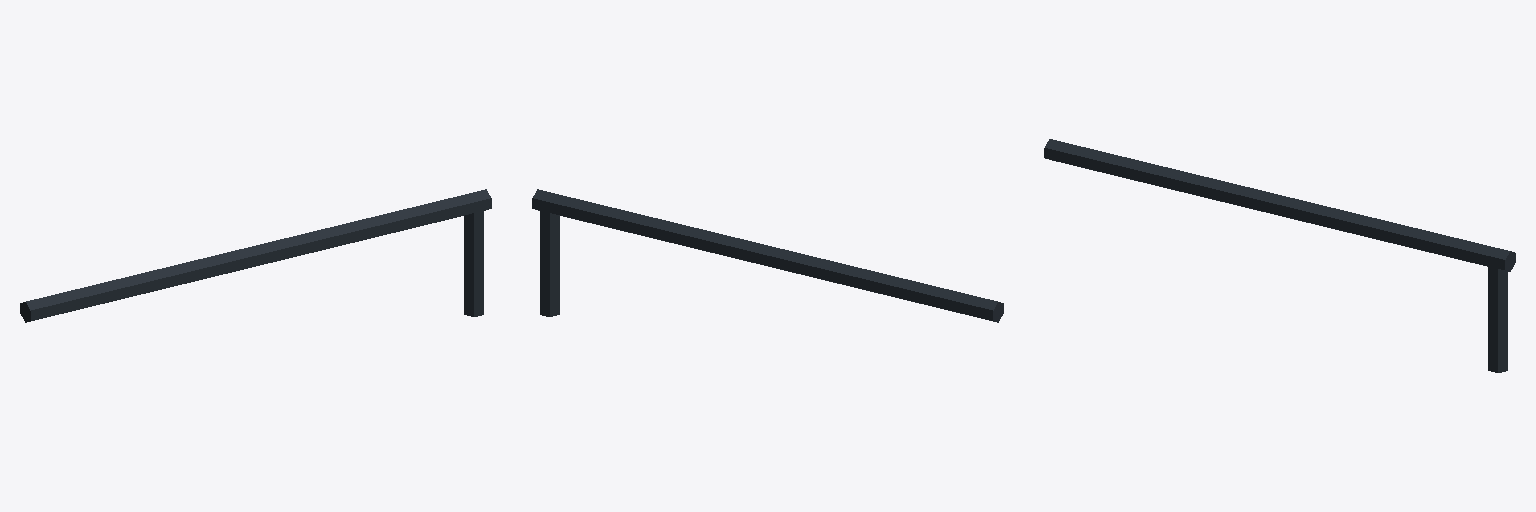
The robot description file, URDF, robot "allen_key_canonical":
<?xml version="1.0"?>
<robot name="allen_key_canonical">
  <link name="object_root">
    <!-- Uniform 10 mm across-flats hex stock; no enlarged grasp sleeve. -->
    <visual>
      <origin xyz="0.067 0 0" rpy="0 0 0"/>
      <geometry>
        <mesh filename="meshes/unit_hex_prism_x.obj" scale="0.264 0.0057735 0.0057735"/>
      </geometry>
      <material name="steel"><color rgba="0.22 0.25 0.28 1"/></material>
    </visual>
    <collision>
      <origin xyz="0.067 0 0" rpy="0 0 0"/>
      <geometry>
        <mesh filename="meshes/unit_hex_prism_x.obj" scale="0.264 0.0057735 0.0057735"/>
      </geometry>
    </collision>
    <visual>
      <origin xyz="0.192 0 -0.03" rpy="0 1.57079632679 0"/>
      <geometry>
        <mesh filename="meshes/unit_hex_prism_x.obj" scale="0.06 0.0057735 0.0057735"/>
      </geometry>
      <material name="steel"/>
    </visual>
    <collision>
      <origin xyz="0.192 0 -0.03" rpy="0 1.57079632679 0"/>
      <geometry>
        <mesh filename="meshes/unit_hex_prism_x.obj" scale="0.06 0.0057735 0.0057735"/>
      </geometry>
    </collision>
    <inertial>
      <origin xyz="0.084 0 -0.005" rpy="0 0 0"/>
      <mass value="0.045"/>
      <inertia ixx="0.000010" iyy="0.00025" izz="0.00025" ixy="0" ixz="0" iyz="0"/>
    </inertial>
  </link>
</robot>

--- Facts derived from the render (not from the file) ---
The picture shows the robot from 3 angles, left to right: view 1: azimuth 30°, elevation 25°; view 2: azimuth 150°, elevation 25°; view 3: azimuth 330°, elevation 25°; orthographic projection.
Robot: allen_key_canonical — 1 links, 0 joints (none); root link object_root; default pose: every joint at zero.
Visible links, largest first — view 1: object_root; view 2: object_root; view 3: object_root.
Link boxes in pixels (x1,y1,x2,y2): object_root: (20,189,491,322); object_root: (532,189,1003,322); object_root: (1044,139,1515,372).
Size in the robot's own frame: 0.264 by 0.01 by 0.0658 metres.
2 mesh visuals loaded from 1 distinct referenced files (1 OBJ).
